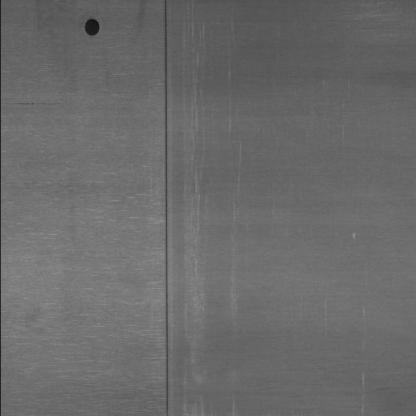punching_hole: (79, 17, 103, 40)
welding_line: (148, 0, 175, 414)
